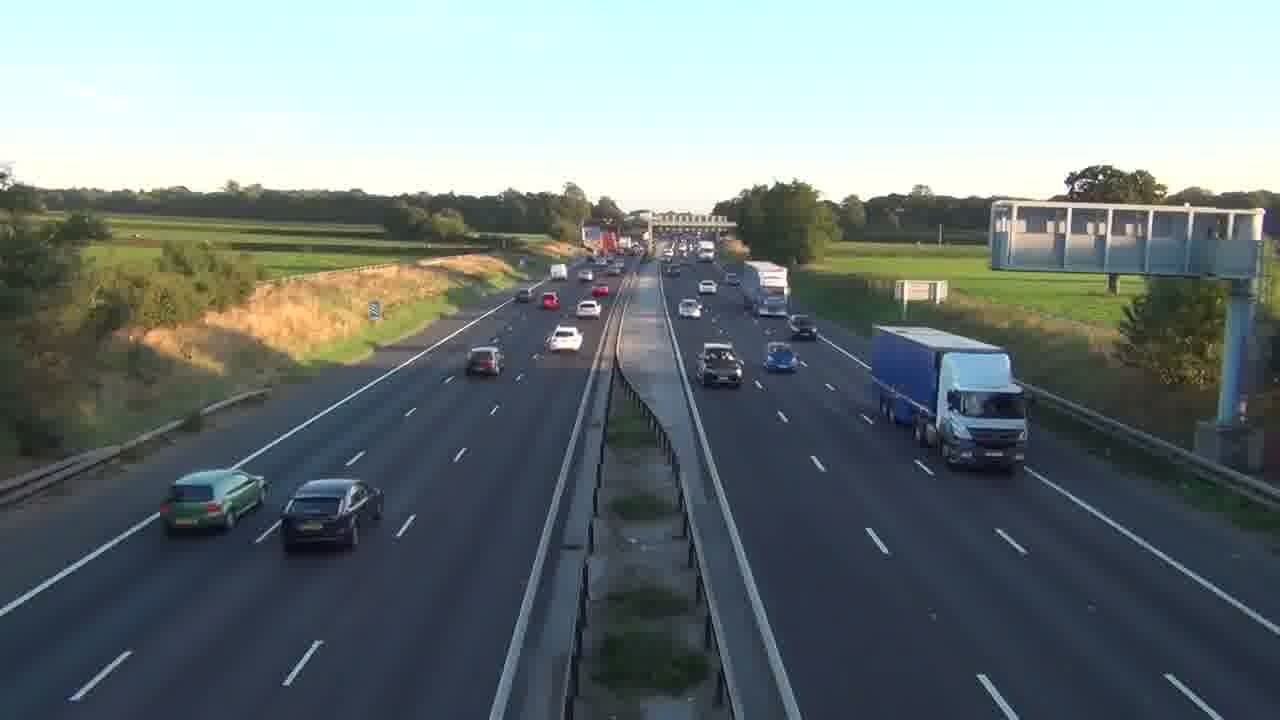car: (279, 477, 384, 553), (465, 345, 504, 376), (766, 344, 796, 373), (576, 298, 602, 318)
truck: (870, 323, 1029, 473), (160, 467, 266, 536), (465, 345, 504, 376)
